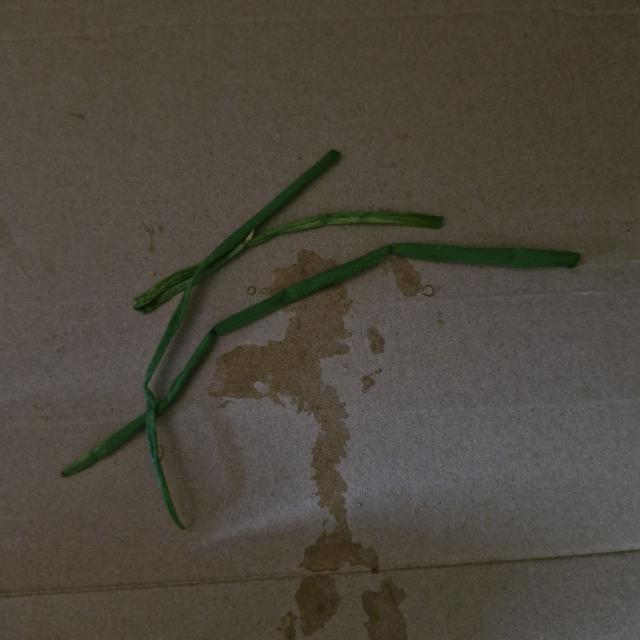food_waste: (44, 119, 618, 538)
